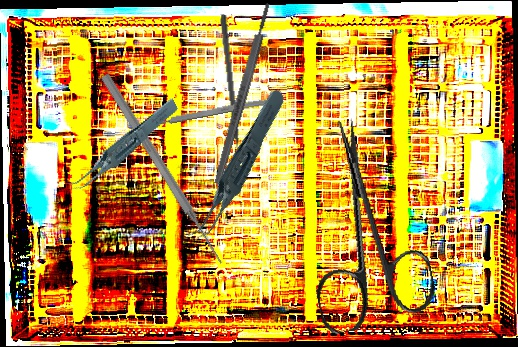Iris Scissors: (285, 108, 440, 337)
Pusher: (98, 72, 228, 268), (218, 13, 243, 169)
Scalpel Handle: (211, 2, 274, 185), (153, 95, 277, 127)
Tissue Forceps: (159, 86, 313, 246), (53, 97, 191, 193)
